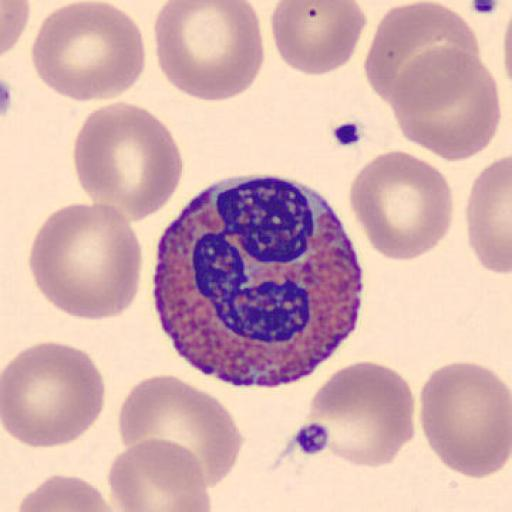RBC: (116, 372, 244, 491), (27, 201, 144, 324), (71, 100, 184, 224), (388, 44, 502, 164), (364, 0, 480, 111), (346, 148, 454, 262), (305, 360, 416, 470), (30, 0, 146, 104), (152, 0, 265, 103), (1, 339, 106, 449), (418, 360, 512, 480), (367, 32, 479, 114), (105, 437, 212, 512), (270, 1, 368, 77), (465, 153, 512, 277), (15, 472, 121, 512), (0, 0, 31, 58), (502, 2, 512, 100)
WBC: (148, 180, 367, 387)
